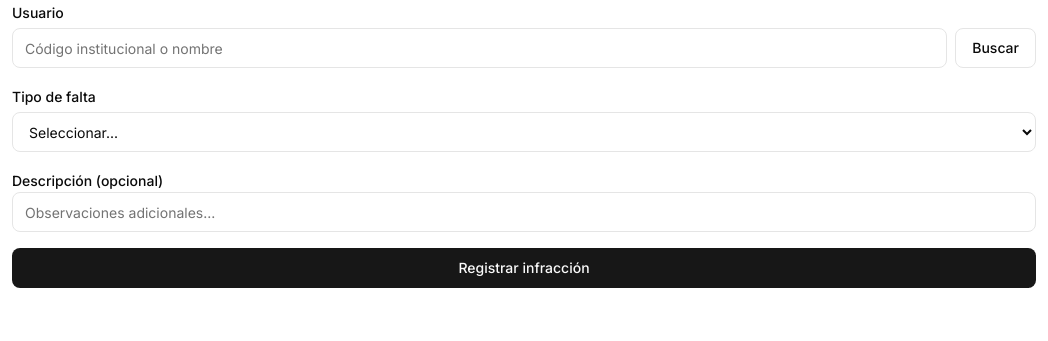
Test: ViolationCreateForm › requires a violation type before submit
Click the button "Registrar infracción" at (524, 268), box [12,248,1036,288]
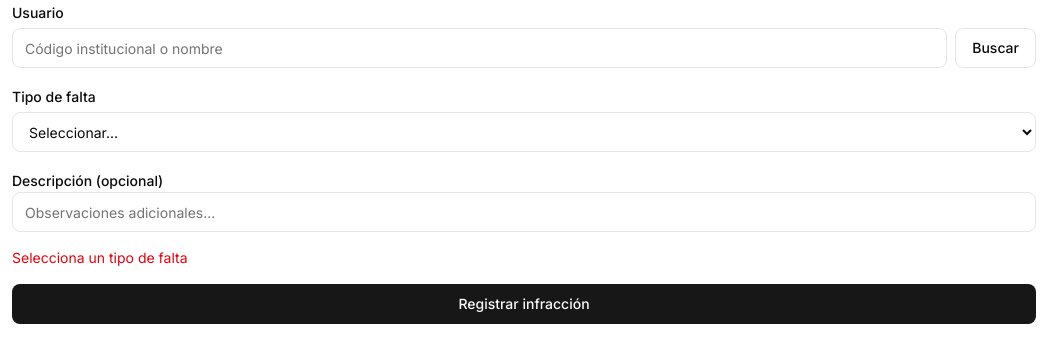
Result: the text "Selecciona un tipo de falta" is shown at [12,249,188,266]
